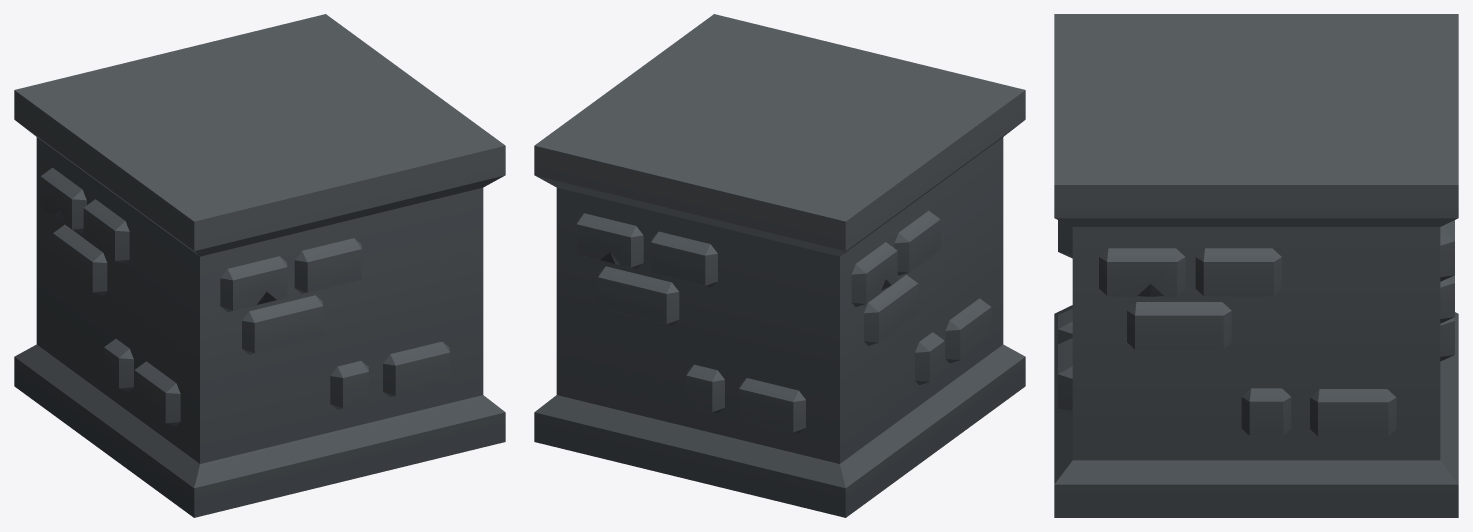
Rendered from floor_foundation_allsides.glb.
3 views of the same model, side by side, from view 1: azimuth 30°, elevation 25°; view 2: azimuth 150°, elevation 25°; view 3: azimuth 270°, elevation 25° (orthographic). The views are drawn at different scales.
Visible parts, largest first — view 1: floor_foundation_allsides; view 2: floor_foundation_allsides; view 3: floor_foundation_allsides.
Boxes of the visible parts, x1=… form: floor_foundation_allsides: x1=14, y1=14, x2=505, y2=517; floor_foundation_allsides: x1=534, y1=14, x2=1025, y2=517; floor_foundation_allsides: x1=1054, y1=14, x2=1458, y2=517.
Size of the model in its own units: 2.2 by 2 by 2.2.
1 material, 1 textured.
